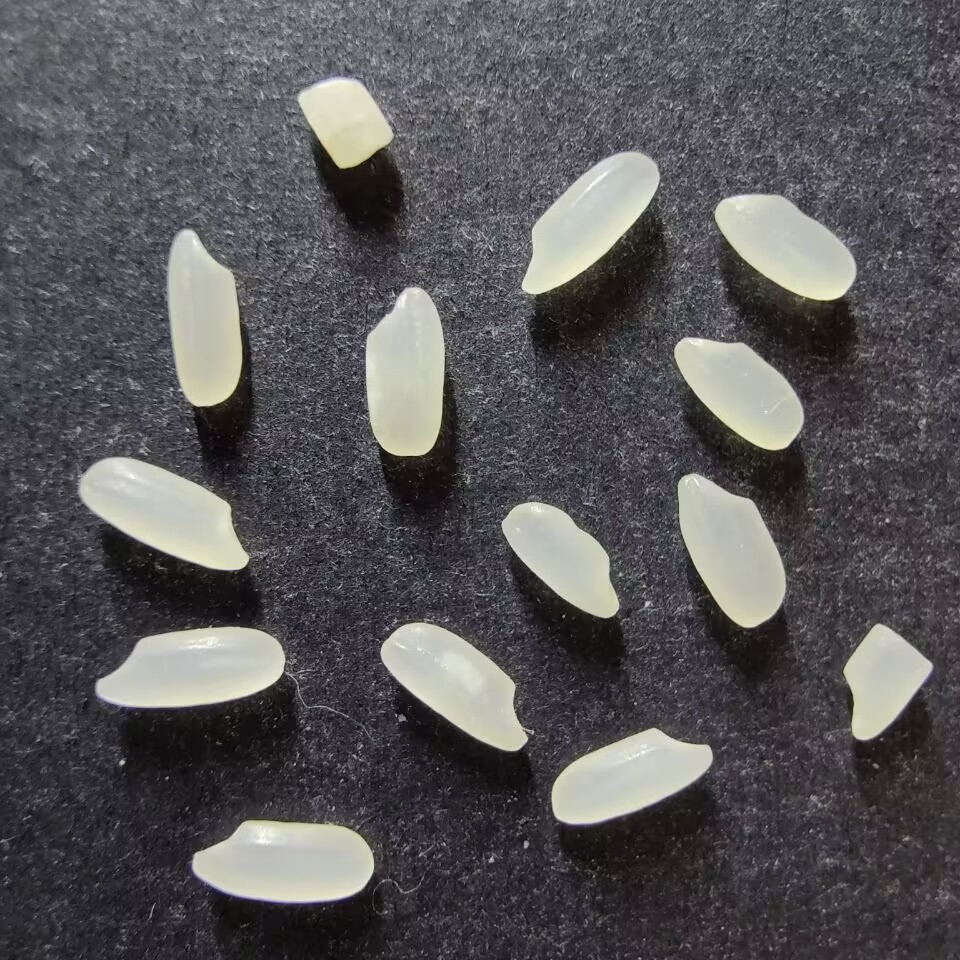broken: (842, 622, 932, 741), (296, 77, 394, 169)
rice: (519, 151, 660, 295), (78, 456, 249, 571), (379, 621, 529, 752), (676, 472, 785, 628), (550, 727, 713, 825), (94, 626, 285, 708), (713, 194, 857, 301), (191, 819, 374, 903), (672, 336, 804, 450), (499, 501, 620, 618), (166, 229, 243, 407), (364, 285, 444, 456)
